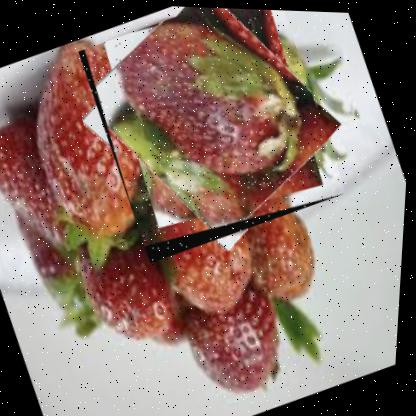strawberry_rotten: (66, 2, 356, 267)
